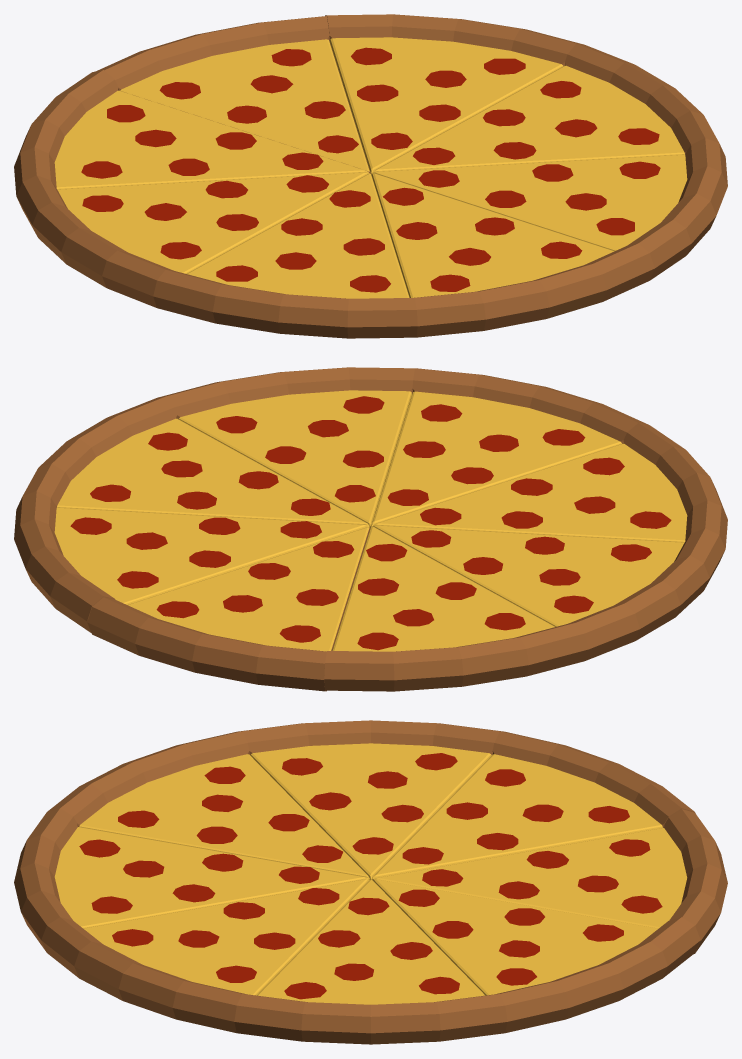
The model's file is Pizza.fbx.
3 views of the same model, one above another, from view 1: azimuth 30°, elevation 25°; view 2: azimuth 150°, elevation 25°; view 3: azimuth 270°, elevation 25° (orthographic).
Parts seen in each view (by area): view 1: Pizza; view 2: Pizza; view 3: Pizza.
Part boxes in pixels (<box>): Pizza: <box>14,14,727,338</box>; Pizza: <box>14,367,727,691</box>; Pizza: <box>14,720,727,1044</box>.
Bounding box in the file's own units: 19.89 × 1.25 × 19.89.
